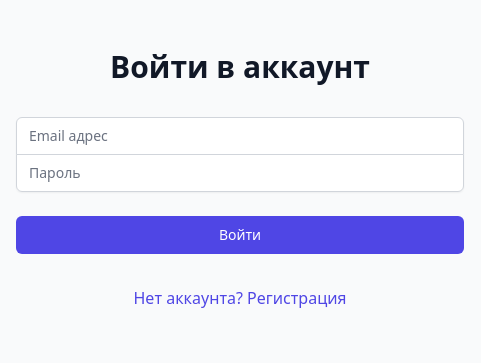
Test: Login › shows validation errors from backend for validation error
In the field labelled "Email адрес": x=240, y=136 [16,116,464,154], type "test@example.com"
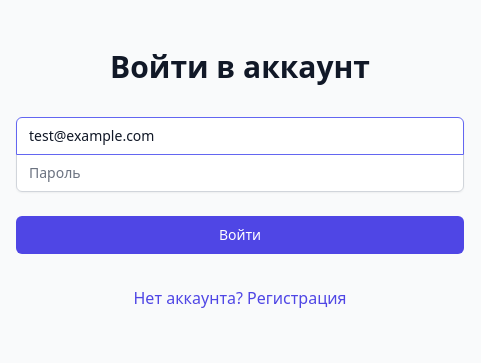
In the password field labelled "Пароль": x=240, y=172 [16,154,464,192], type "password123"
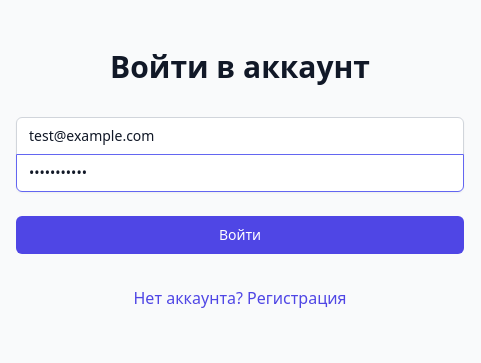
Click the button "Войти": x=240, y=234 [16,216,464,254]
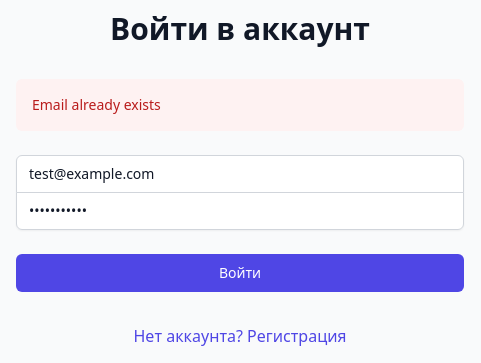
Check: the text "Email already exists" is shown, box [32,94,161,114]
